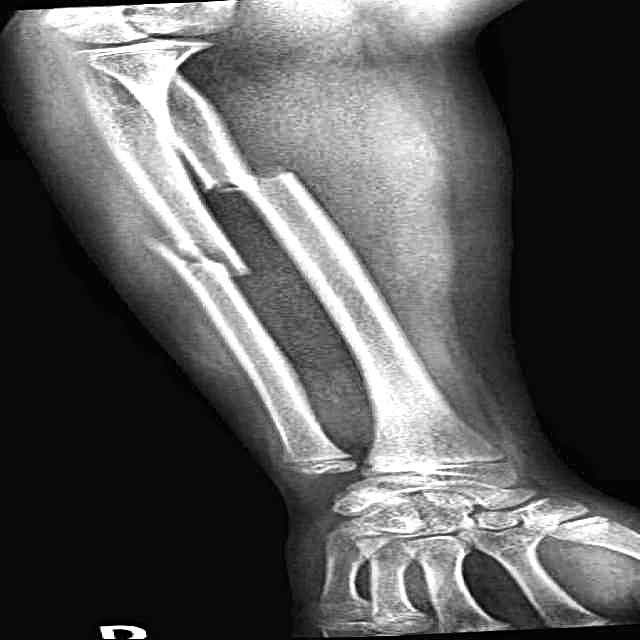Oblique Displaced: (133, 219, 259, 296)
Transverse: (185, 153, 325, 208)
